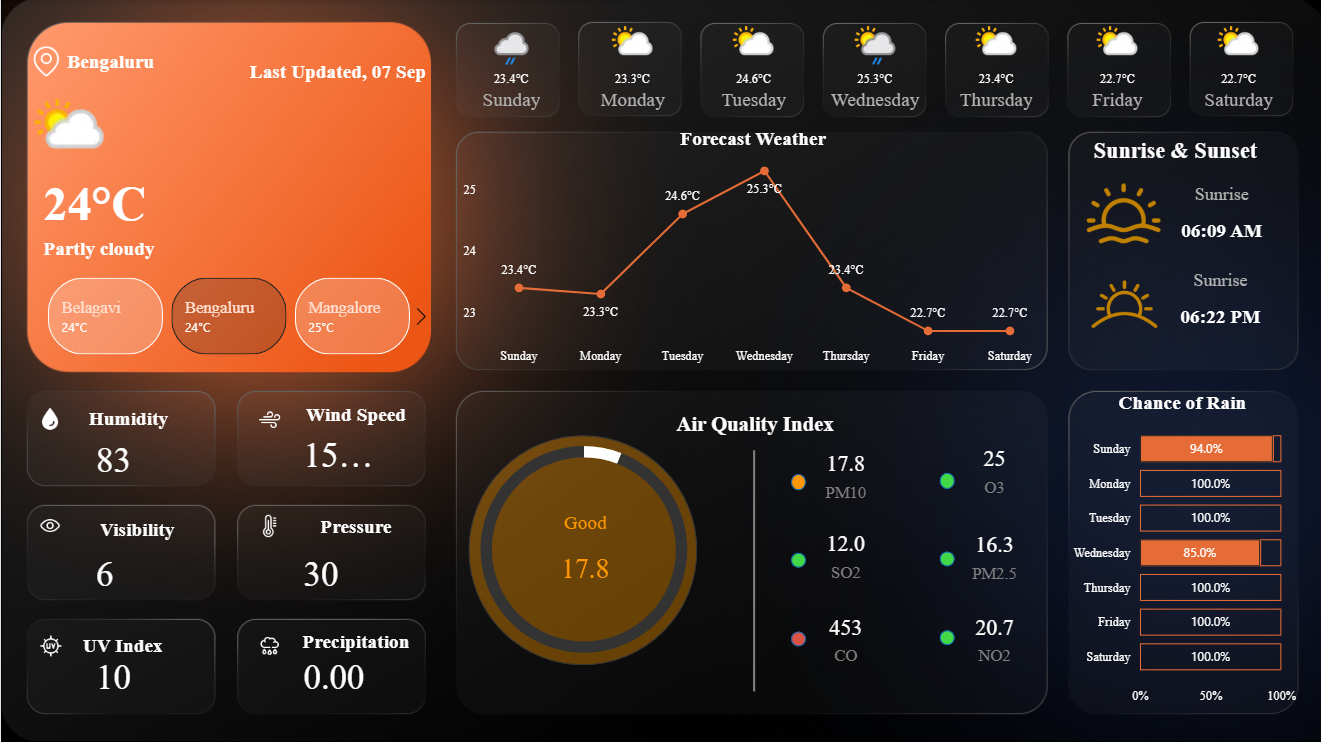

This screenshot's page, from the dashboard's own definition file:
{"tool":"powerbi","page":{"name":"Weather_Forecast","canvas":[1280,720],"ordinal":0},"visuals":[{"type":"shape","box":[451.2,421,220.8,222],"z":0},{"type":"donutChart","fields":{"Y":["Sum(Current.current.air_quality.pm10)","_Measures.Left_Value_PM10"]},"box":[433.1,368,259.4,326.9],"z":1000},{"type":"advancedSlicerVisual","fields":{"Values":["Location.location.name"]},"box":[20.5,264.2,400.5,84.5],"z":2000},{"type":"shape","box":[41,154.4,179.8,86.9],"z":3000},{"type":"shape","box":[41,218.4,275.1,45.8],"z":4000},{"type":"shape","box":[63.9,37.4,179.8,45.8],"z":5000},{"type":"shape","box":[1037.5,130.4,192,32.6],"z":6000},{"type":"image","box":[22.9,41,41,38.6],"z":7000},{"type":"cardVisual","fields":{"Data":["Min(Current.current.condition.icon)"]},"box":[0,68.8,123.1,94.1],"z":8000},{"type":"image","box":[31.4,386.1,32,38.6],"z":9000},{"type":"image","box":[31.4,489.8,32.6,37.4],"z":10000},{"type":"image","box":[32.6,605.6,31.4,37.4],"z":11000},{"type":"image","box":[243.7,387.3,31.4,37.4],"z":12000},{"type":"image","box":[243.7,489.8,31.4,37.4],"z":13000},{"type":"image","box":[243.7,605.6,31.4,37.4],"z":14000},{"type":"shape","box":[24.1,382.4,197.9,45.8],"z":15000},{"type":"shape","box":[243.7,378.8,197.9,45.8],"z":16000},{"type":"shape","box":[243.7,486.2,197.9,45.8],"z":17000},{"type":"shape","box":[32.6,489.8,197.9,45.8],"z":18000},{"type":"shape","box":[243.7,597.2,197.9,45.8],"z":19000},{"type":"shape","box":[32.6,605.6,170.1,37.4],"z":20000},{"type":"cardVisual","fields":{"Data":["Sum(Current.current.humidity)"]},"box":[74.8,396.9,103.8,89.3],"z":21000},{"type":"cardVisual","fields":{"Data":["Sum(Current.current.wind_kph)"]},"box":[275.4,397.4,103.9,71.3],"z":22000},{"type":"cardVisual","fields":{"Data":["Sum(Current.current.pressure_in)"]},"box":[275.6,506.8,104.1,90.2],"z":23000},{"type":"cardVisual","fields":{"Data":["Sum(Current.current.vis_km)"]},"box":[74.9,506.8,104.1,90.2],"z":24000},{"type":"cardVisual","fields":{"Data":["Sum(Current.current.precip_in)"]},"box":[275.6,605.8,104.1,90.2],"z":25000},{"type":"cardVisual","fields":{"Data":["Sum(Current.current.uv)"]},"box":[74.9,605.8,104.1,90.2],"z":26000},{"type":"advancedSlicerVisual","fields":{"Values":["Forecast_Day.Day_Name"]},"box":[433.1,12.7,821.8,111.8],"z":27000},{"type":"lineChart","title":"Forecast Weather","fields":{"Y":["Sum(Forecast_Day.forecast.forecastday.day.avgtemp_c)"],"Category":["Forecast_Day.Day_Name"]},"box":[442,124.5,569,235],"z":28000},{"type":"shape","box":[212.7,47.4,197.9,45.8],"z":29000},{"type":"shape","box":[1107.5,171.5,141.3,35],"z":30000},{"type":"shape","box":[1107.5,206.5,141.3,35],"z":31000},{"type":"shape","box":[1106.3,289.9,141.3,35],"z":32000},{"type":"shape","box":[1106.3,254.8,141.3,35],"z":33000},{"type":"image","box":[1037.5,166.7,91.8,80.9],"z":34000},{"type":"image","box":[1033.9,247.6,100.2,94.2],"z":35000},{"type":"hundredPercentStackedBarChart","title":"Chance of Rain","fields":{"Y":["Sum(Forecast_Day.forecast.forecastday.day.daily_chance_of_rain)","_Measures.Left_Value_Rain"],"Category":["Forecast_Day.Day_Name"]},"box":[1025.4,379.2,229.5,309.2],"z":36000},{"type":"shape","box":[628,387.7,198.1,45.9],"z":37000},{"type":"card","fields":{"Values":["Sum(Current.current.air_quality.o3)"]},"box":[905.9,421.5,106,64.1],"z":38000},{"type":"card","fields":{"Values":["Sum(Current.current.air_quality.pm2_5)"]},"box":[905.9,504,106,64.1],"z":39000},{"type":"card","fields":{"Values":["Sum(Current.current.air_quality.no2)"]},"box":[905.9,583.8,106,64.1],"z":40000},{"type":"card","fields":{"Values":["Sum(Current.current.air_quality.pm10)"]},"box":[761.9,425.4,106,64.1],"z":41000},{"type":"card","fields":{"Values":["Sum(Current.current.air_quality.so2)"]},"box":[761.9,502.7,106,64.1],"z":42000},{"type":"card","fields":{"Values":["Sum(Current.current.air_quality.co)"]},"box":[761.9,583.8,106,64.1],"z":43000},{"type":"shape","box":[761.9,458.2,14.4,15.7],"z":44000},{"type":"shape","box":[761.9,534.1,14.4,14.4],"z":45000},{"type":"shape","box":[761.9,610,14.4,14.4],"z":46000},{"type":"shape","box":[905.9,457.7,14.4,15.7],"z":47000},{"type":"shape","box":[905.9,533.6,14.4,14.4],"z":48000},{"type":"shape","box":[905.9,609.6,14.4,14.4],"z":49000},{"type":"shape","box":[651.5,435.5,150.8,232.8],"z":50000},{"type":"card","fields":{"Values":["Sum(Current.current.air_quality.pm10)"]},"box":[510.3,494.6,107.4,89.3],"z":51000}]}

Visuals, with their boxes in screenshot pixels (x1, y1, x2, y2), scaled from the page's 1280x720 canvas onto the 1321x742 screenshot:
shape: detection(466, 434, 694, 663)
donutChart - Sum(Current.current.air_quality.pm10) x _Measures.Left_Value_PM10: detection(447, 379, 715, 716)
advancedSlicerVisual - Location.location.name: detection(21, 272, 434, 359)
shape: detection(42, 159, 228, 249)
shape: detection(42, 225, 326, 272)
shape: detection(66, 39, 252, 86)
shape: detection(1071, 134, 1269, 168)
image: detection(24, 42, 66, 82)
cardVisual - Min(Current.current.condition.icon): detection(0, 71, 127, 168)
image: detection(32, 398, 65, 438)
image: detection(32, 505, 66, 543)
image: detection(34, 624, 66, 663)
image: detection(252, 399, 284, 438)
image: detection(252, 505, 284, 543)
image: detection(252, 624, 284, 663)
shape: detection(25, 394, 229, 441)
shape: detection(252, 390, 456, 438)
shape: detection(252, 501, 456, 548)
shape: detection(34, 505, 238, 552)
shape: detection(252, 615, 456, 663)
shape: detection(34, 624, 209, 663)
cardVisual - Sum(Current.current.humidity): detection(77, 409, 184, 501)
cardVisual - Sum(Current.current.wind_kph): detection(284, 410, 391, 483)
cardVisual - Sum(Current.current.pressure_in): detection(284, 522, 392, 615)
cardVisual - Sum(Current.current.vis_km): detection(77, 522, 185, 615)
cardVisual - Sum(Current.current.precip_in): detection(284, 624, 392, 717)
cardVisual - Sum(Current.current.uv): detection(77, 624, 185, 717)
advancedSlicerVisual - Forecast_Day.Day_Name: detection(447, 13, 1295, 128)
"Forecast Weather" lineChart: detection(456, 128, 1043, 370)
shape: detection(220, 49, 424, 96)
shape: detection(1143, 177, 1289, 213)
shape: detection(1143, 213, 1289, 249)
shape: detection(1142, 299, 1288, 335)
shape: detection(1142, 263, 1288, 299)
image: detection(1071, 172, 1165, 255)
image: detection(1067, 255, 1170, 352)
"Chance of Rain" hundredPercentStackedBarChart: detection(1058, 391, 1295, 709)
shape: detection(648, 400, 853, 447)
card - Sum(Current.current.air_quality.o3): detection(935, 434, 1044, 500)
card - Sum(Current.current.air_quality.pm2_5): detection(935, 519, 1044, 585)
card - Sum(Current.current.air_quality.no2): detection(935, 602, 1044, 668)
card - Sum(Current.current.air_quality.pm10): detection(786, 438, 896, 504)
card - Sum(Current.current.air_quality.so2): detection(786, 518, 896, 584)
card - Sum(Current.current.air_quality.co): detection(786, 602, 896, 668)
shape: detection(786, 472, 801, 488)
shape: detection(786, 550, 801, 565)
shape: detection(786, 629, 801, 643)
shape: detection(935, 472, 950, 488)
shape: detection(935, 550, 950, 565)
shape: detection(935, 628, 950, 643)
shape: detection(672, 449, 828, 689)
card - Sum(Current.current.air_quality.pm10): detection(527, 510, 637, 602)
